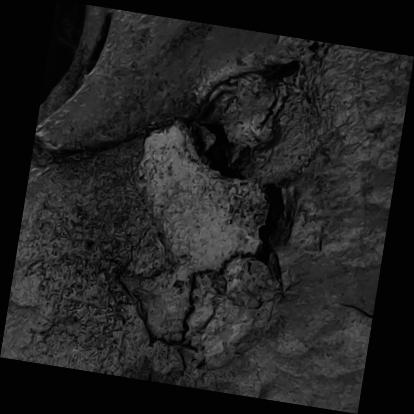crack: (1, 1, 414, 414)
